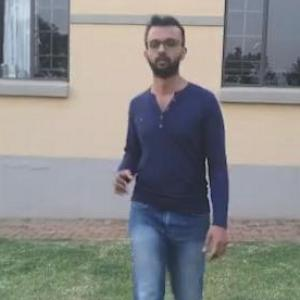follow: (118, 10, 241, 299)
